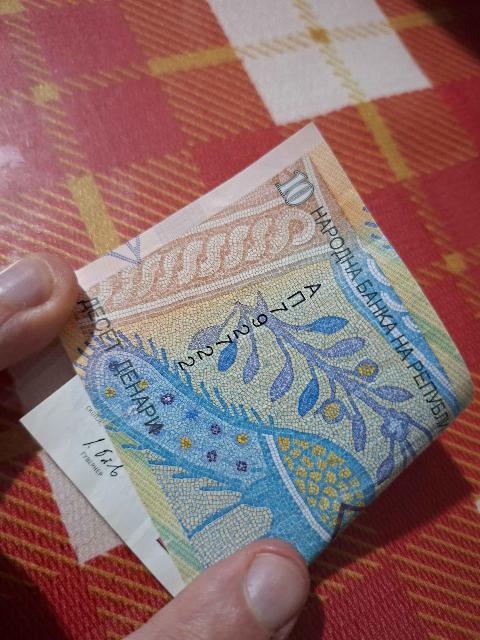note: (62, 125, 471, 582)
